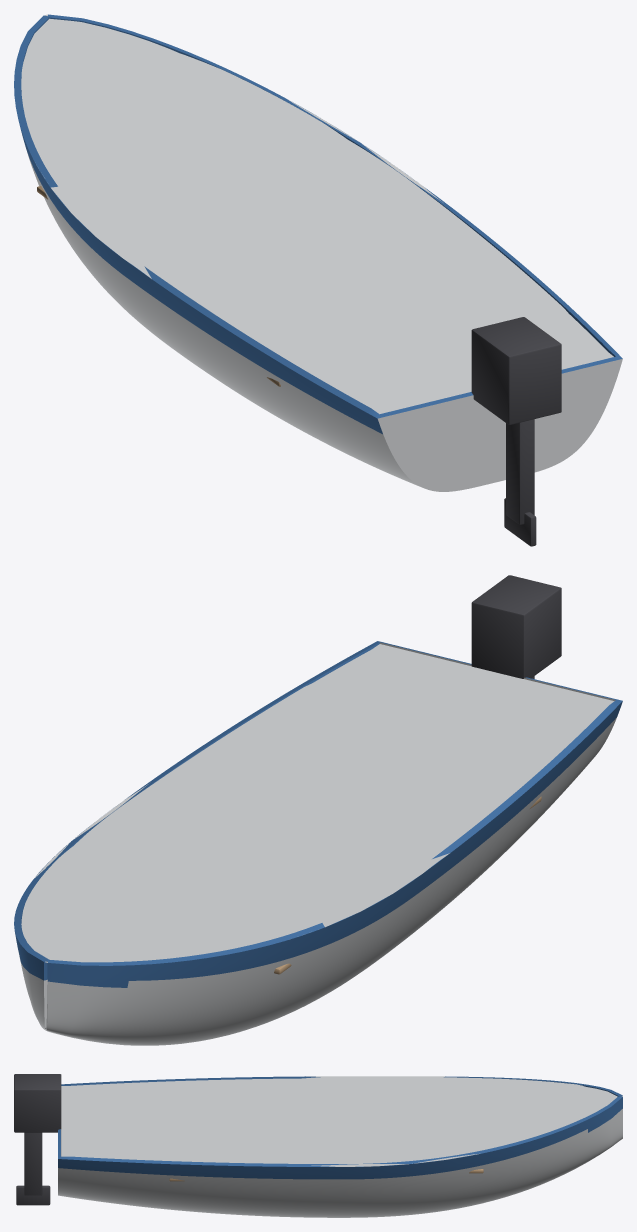
The model's file is boat.glb.
The picture shows the model from 3 angles, top to bottom: view 1: azimuth 30°, elevation 25°; view 2: azimuth 150°, elevation 25°; view 3: azimuth 270°, elevation 25°; orthographic projection. The views are drawn at different scales.
Visible parts, largest first — view 1: boat-buoyancy, boat; view 2: boat-buoyancy, boat; view 3: boat-buoyancy, boat.
Part boxes in pixels (x1=…): boat-buoyancy: x1=21, y1=14, x2=622, y2=418; boat: x1=14, y1=14, x2=622, y2=546; boat-buoyancy: x1=21, y1=644, x2=614, y2=1028; boat: x1=14, y1=575, x2=622, y2=1045; boat-buoyancy: x1=61, y1=1076, x2=622, y2=1166; boat: x1=14, y1=1074, x2=622, y2=1217.
Size of the model in its own units: 1.9 by 1.2 by 5.39.
